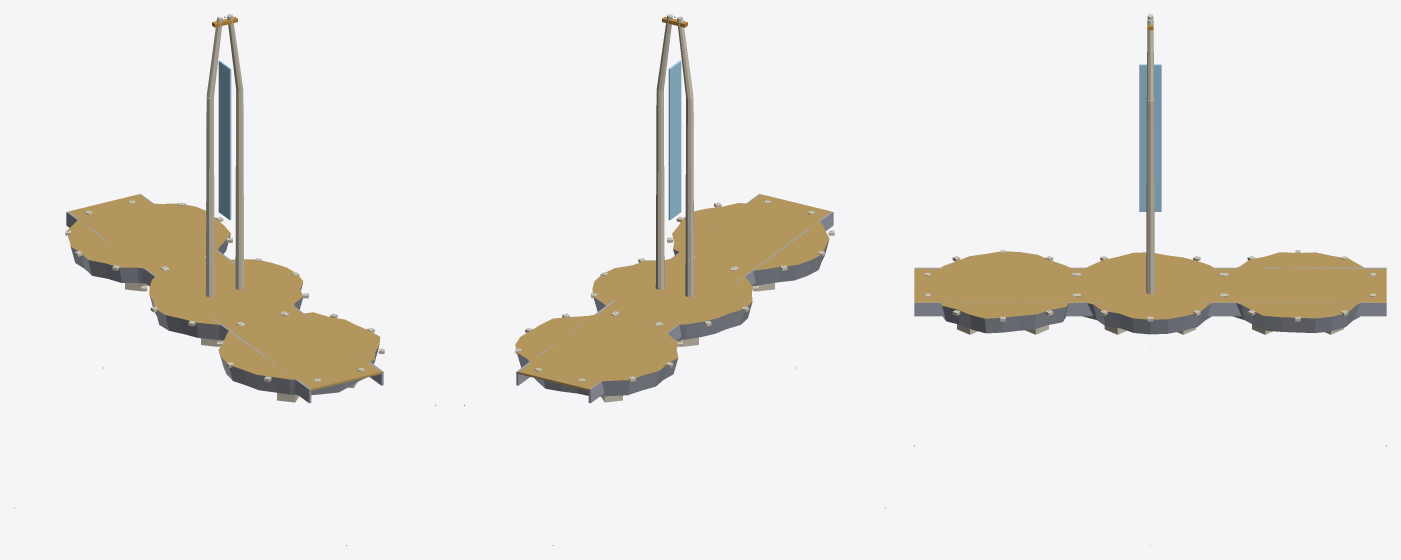
File: chunk_es_path_lantern_row.fbx
3 views of the same model, side by side, from view 1: azimuth 30°, elevation 25°; view 2: azimuth 150°, elevation 25°; view 3: azimuth 270°, elevation 25° (orthographic). The views are drawn at different scales.
Parts seen in each view (by area): view 1: ES_PATH_LANTERN_ROW; view 2: ES_PATH_LANTERN_ROW; view 3: ES_PATH_LANTERN_ROW.
Part boxes in pixels (x1,y1,x2,y2): ES_PATH_LANTERN_ROW: (14, 14, 435, 545); ES_PATH_LANTERN_ROW: (464, 14, 885, 545); ES_PATH_LANTERN_ROW: (914, 14, 1386, 545).
Size of the model in its own units: 256 by 256 by 256.
